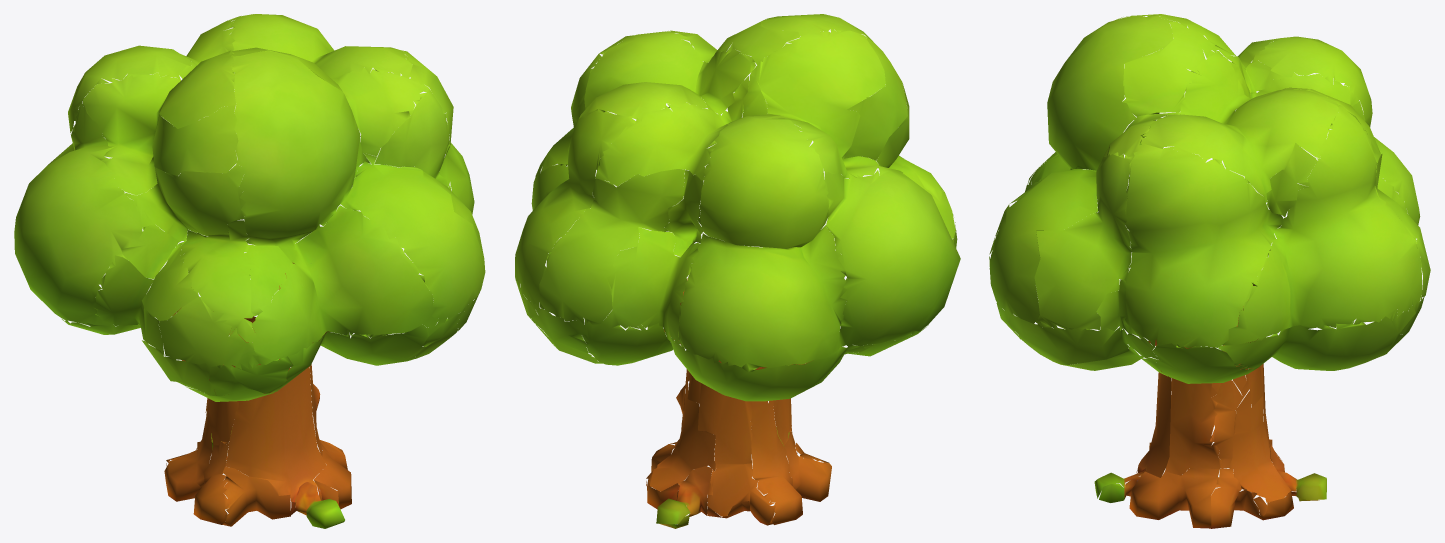
File: baum_gruen_1.glb
3 views of the same model, side by side, from view 1: azimuth 30°, elevation 25°; view 2: azimuth 150°, elevation 25°; view 3: azimuth 270°, elevation 25° (orthographic). The views are drawn at different scales.
Parts seen in each view (by area): view 1: tripo_node_db6f4434-a670-4b83-9933-9632c1dbf8d8; view 2: tripo_node_db6f4434-a670-4b83-9933-9632c1dbf8d8; view 3: tripo_node_db6f4434-a670-4b83-9933-9632c1dbf8d8.
Part boxes in pixels (x1,y1,x2,y2): tripo_node_db6f4434-a670-4b83-9933-9632c1dbf8d8: [14, 14, 485, 528]; tripo_node_db6f4434-a670-4b83-9933-9632c1dbf8d8: [515, 14, 960, 528]; tripo_node_db6f4434-a670-4b83-9933-9632c1dbf8d8: [989, 14, 1430, 528].
Size of the model in its own units: 0.9531 by 0.9991 by 0.8856.
Materials: 1 (1 with a texture image).
